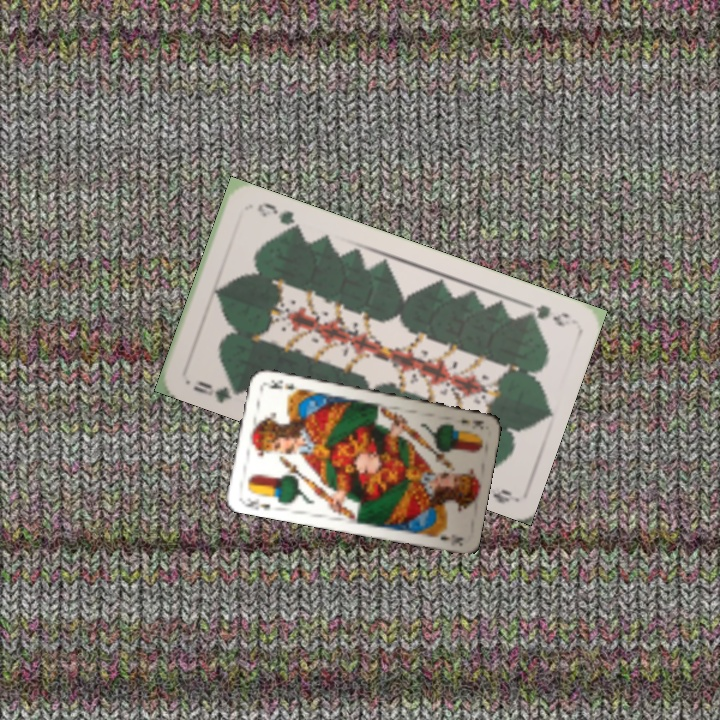EK: (238, 494, 272, 512), (457, 415, 486, 430)
G9: (519, 297, 574, 329), (189, 376, 243, 406)
